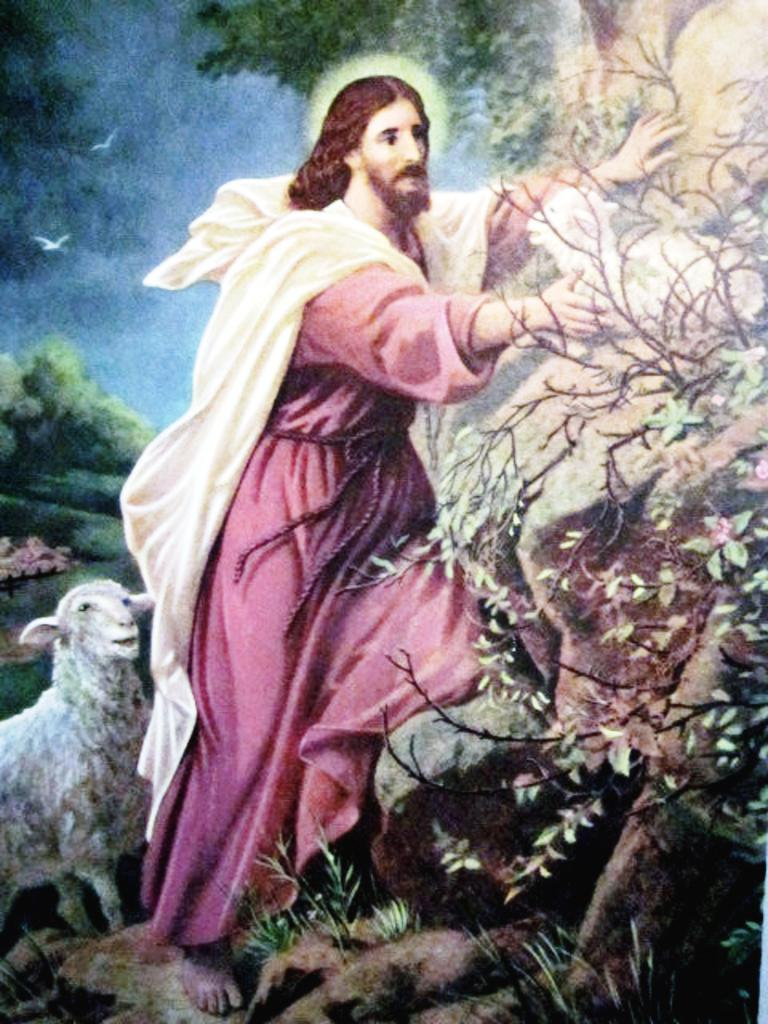Sheep: (0, 578, 160, 942), (520, 176, 767, 352)
